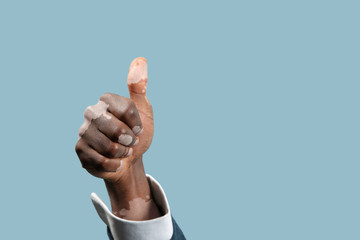vitiligo: (88, 93, 145, 172)
